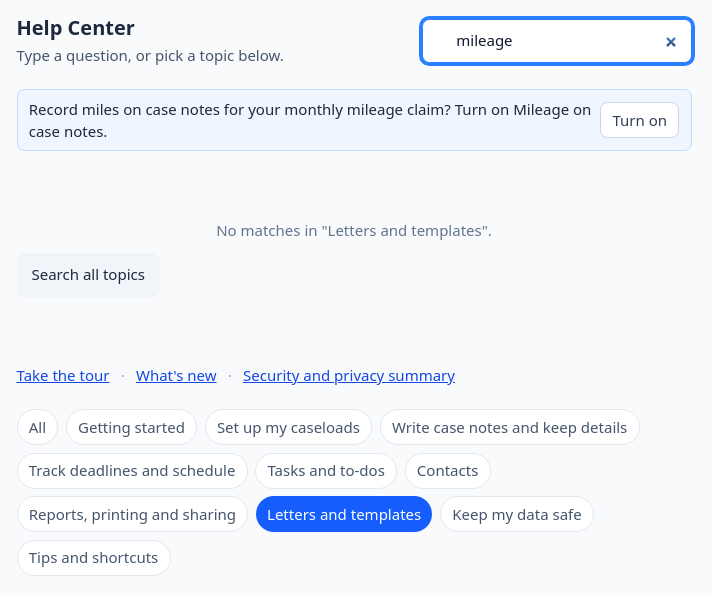
Test: Help search › with a category chip kept on (restored state), an empty result offers to search all topics
The image size is (712, 593).
Expected: the text "No matches in \"Letters and templates\"." is shown, top-left (216, 220), bottom-right (492, 240)
Click the button "Search all topics" at (88, 274), box top-left (16, 252), bottom-right (160, 296)
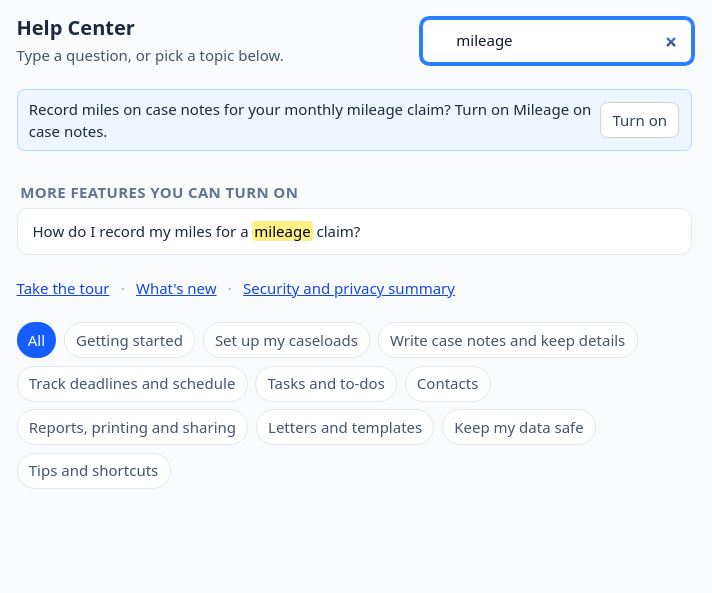
Result: the button "How do I record my miles for a mileage claim?" is shown at top-left (18, 208), bottom-right (690, 254)
